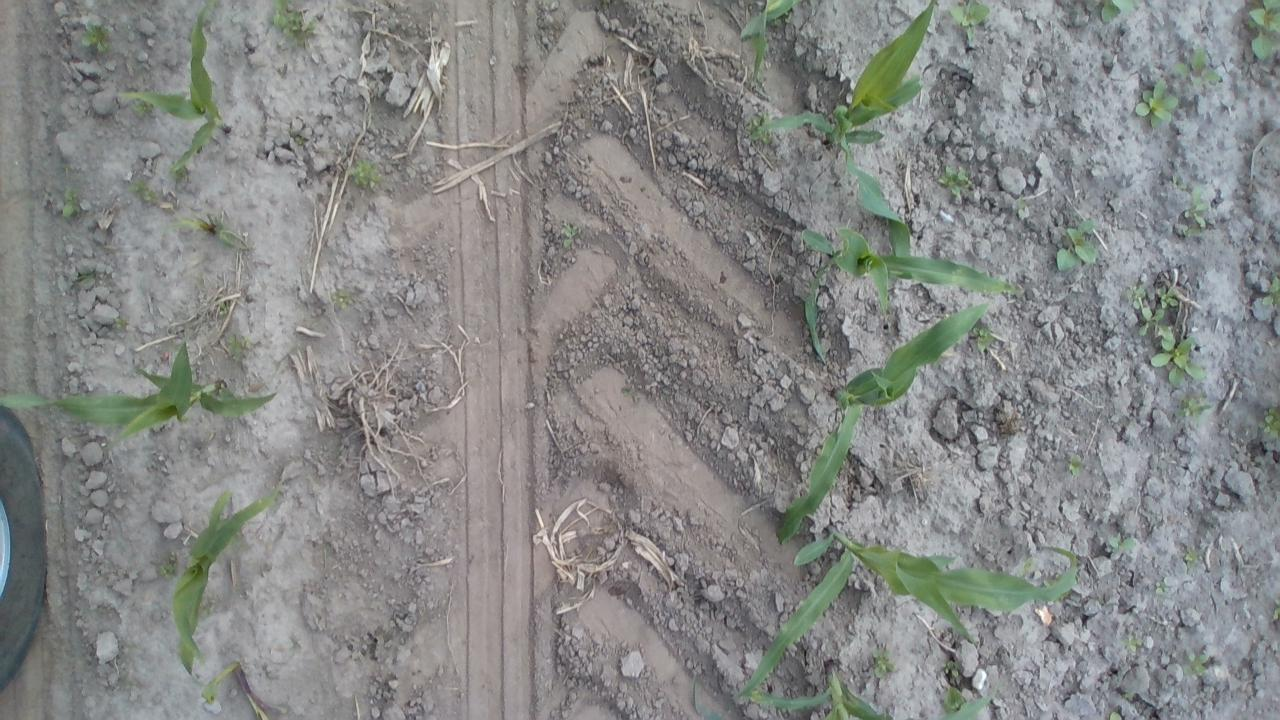Maize: (732, 523, 1080, 700), (772, 304, 990, 546), (760, 2, 934, 256), (794, 224, 1026, 374), (0, 336, 280, 445), (167, 462, 281, 678), (115, 0, 235, 182), (756, 659, 889, 720), (200, 662, 288, 720), (159, 207, 254, 260), (736, 0, 795, 82), (936, 684, 996, 720), (692, 670, 728, 720)
Weeds: (1148, 324, 1210, 386), (1050, 213, 1106, 276), (1122, 280, 1178, 332), (1134, 74, 1182, 133), (1172, 44, 1222, 88), (270, 0, 314, 46), (1248, 0, 1280, 62), (948, 0, 991, 39), (344, 152, 383, 191), (1180, 184, 1213, 229), (130, 171, 164, 213), (744, 108, 776, 149), (1170, 391, 1214, 419), (152, 545, 182, 584), (54, 184, 83, 224), (80, 18, 110, 56), (936, 164, 972, 195), (866, 648, 899, 681), (1181, 644, 1213, 678), (1100, 530, 1138, 558), (1256, 400, 1280, 442), (1098, 0, 1136, 24), (222, 331, 250, 362), (1259, 273, 1280, 309), (971, 322, 996, 352), (329, 284, 354, 311), (560, 221, 580, 252), (70, 264, 98, 284), (1183, 544, 1204, 569), (1068, 442, 1083, 477), (1154, 574, 1175, 598), (1124, 630, 1144, 655), (1013, 197, 1030, 220), (109, 316, 132, 332), (134, 98, 152, 118), (1175, 219, 1192, 240), (938, 660, 963, 674), (1271, 596, 1280, 623), (218, 300, 230, 316), (295, 134, 306, 146), (1177, 178, 1187, 188)
